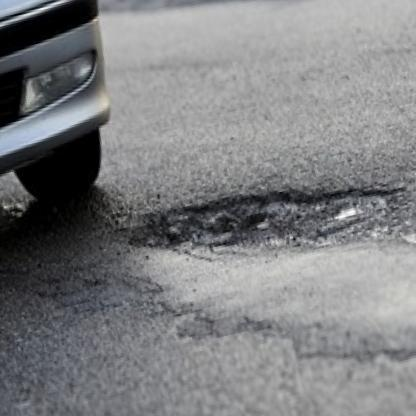pothole: (115, 153, 406, 300)
